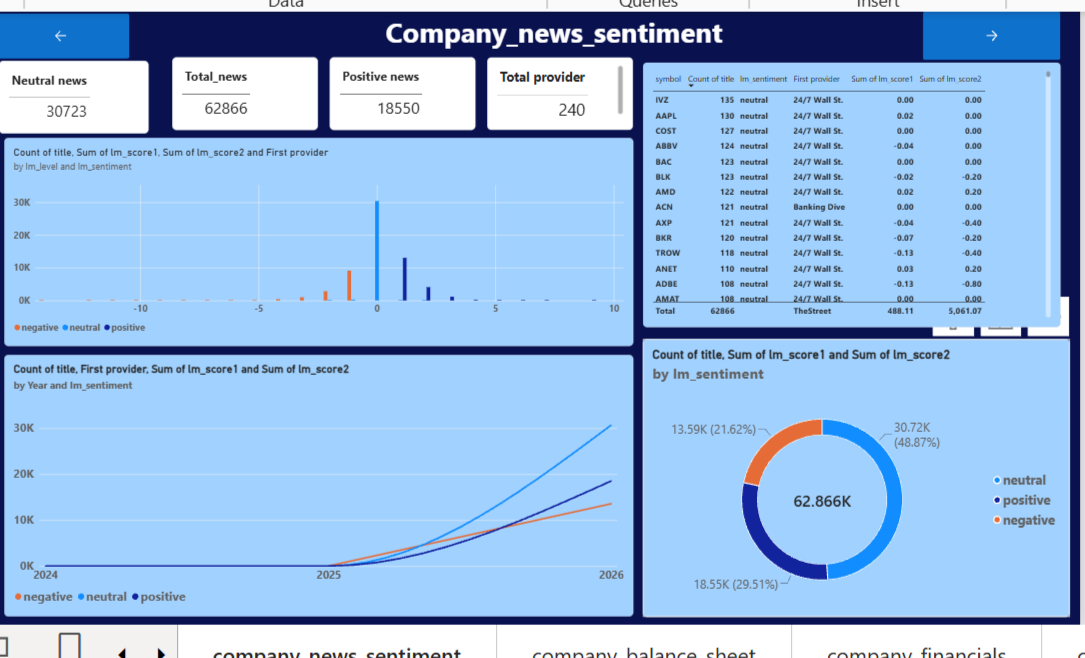

The page's visual inventory and layout, read from the dashboard file:
{"tool":"powerbi","page":{"name":"company_news_sentiment","canvas":[1920,1080],"ordinal":2},"visuals":[{"type":"textbox","box":[150,325,300,300],"z":0},{"type":"textbox","box":[150.2,635.2,300.4,79.6],"z":1000},{"type":"textbox","box":[629.8,114,865,70.6],"z":2000},{"type":"tableEx","fields":{"Values":["01_company_info.Total_news"]},"box":[322.1,81.4,257,128.5],"z":3000},{"type":"tableEx","fields":{"Values":["01_company_info.Positive news"]},"box":[599,81.4,257,128.5],"z":4000},{"type":"tableEx","fields":{"Values":["02_company_news_sentiment.Total provider"]},"box":[875.9,81.4,257,128.5],"z":5000},{"type":"tableEx","fields":{"Values":["02_company_news_sentiment.Neutral news"]},"box":[14.5,85.1,264.2,128.5],"z":6000},{"type":"textbox","box":[494,1.8,1000.7,79.6],"z":7000},{"type":"textbox","box":[14,159.5,566,150],"z":8000},{"type":"actionButton","box":[3.6,1.8,242.5,79.6],"z":9000},{"type":"actionButton","box":[1643.2,0,242.5,85.1],"z":10000},{"type":"donutChart","fields":{"Category":["02_company_news_sentiment.lm_sentiment"],"Y":["CountNonNull(02_company_news_sentiment.title)"]},"box":[1149.1,575.5,752.8,490.4],"z":11000},{"type":"lineChart","fields":{"Category":["02_company_news_sentiment.pubDate.Variation.Date Hierarchy.Year","02_company_news_sentiment.pubDate.Variation.Date Hierarchy.Quarter","02_company_news_sentiment.pubDate.Variation.Date Hierarchy.Month","02_company_news_sentiment.pubDate.Variation.Date Hierarchy.Day"],"Series":["02_company_news_sentiment.lm_sentiment"],"Y":["CountNonNull(02_company_news_sentiment.title)"]},"box":[23.5,604.4,1109.3,461.5],"z":12000},{"type":"tableEx","fields":{"Values":["02_company_news_sentiment.symbol","CountNonNull(02_company_news_sentiment.title)","02_company_news_sentiment.lm_sentiment","Min(02_company_news_sentiment.provider)","Sum(02_company_news_sentiment.lm_score1)","Sum(02_company_news_sentiment.lm_score2)"]},"box":[1149.1,88.7,736.5,466.9],"z":13000},{"type":"clusteredColumnChart","fields":{"Category":["02_company_news_sentiment.lm_level"],"Series":["02_company_news_sentiment.lm_sentiment"],"Y":["CountNonNull(02_company_news_sentiment.title)"]},"box":[23.5,222.6,1109.3,367.4],"z":14000}]}

Visuals, with their boxes in screenshot pixels (x1, y1, x2, y2):
textbox: <bbox>64, 193, 237, 367</bbox>
textbox: <bbox>64, 373, 238, 419</bbox>
textbox: <bbox>341, 72, 841, 112</bbox>
tableEx - 01_company_info.Total_news: <bbox>163, 53, 312, 127</bbox>
tableEx - 01_company_info.Positive news: <bbox>323, 53, 472, 127</bbox>
tableEx - 02_company_news_sentiment.Total provider: <bbox>483, 53, 632, 127</bbox>
tableEx - 02_company_news_sentiment.Neutral news: <bbox>0, 55, 138, 129</bbox>
textbox: <bbox>263, 7, 841, 53</bbox>
textbox: <bbox>0, 98, 313, 184</bbox>
actionButton: <bbox>0, 7, 120, 53</bbox>
actionButton: <bbox>927, 6, 1067, 55</bbox>
donutChart - 02_company_news_sentiment.lm_sentiment x CountNonNull(02_company_news_sentiment.title): <bbox>641, 338, 1076, 621</bbox>
lineChart - 02_company_news_sentiment.pubDate.Variation.Date Hierarchy.Year x 02_company_news_sentiment.pubDate.Variation.Date Hierarchy.Quarter: <bbox>0, 355, 632, 621</bbox>
tableEx - 02_company_news_sentiment.symbol x CountNonNull(02_company_news_sentiment.title): <bbox>641, 57, 1067, 327</bbox>
clusteredColumnChart - 02_company_news_sentiment.lm_level x 02_company_news_sentiment.lm_sentiment: <bbox>0, 134, 632, 347</bbox>
